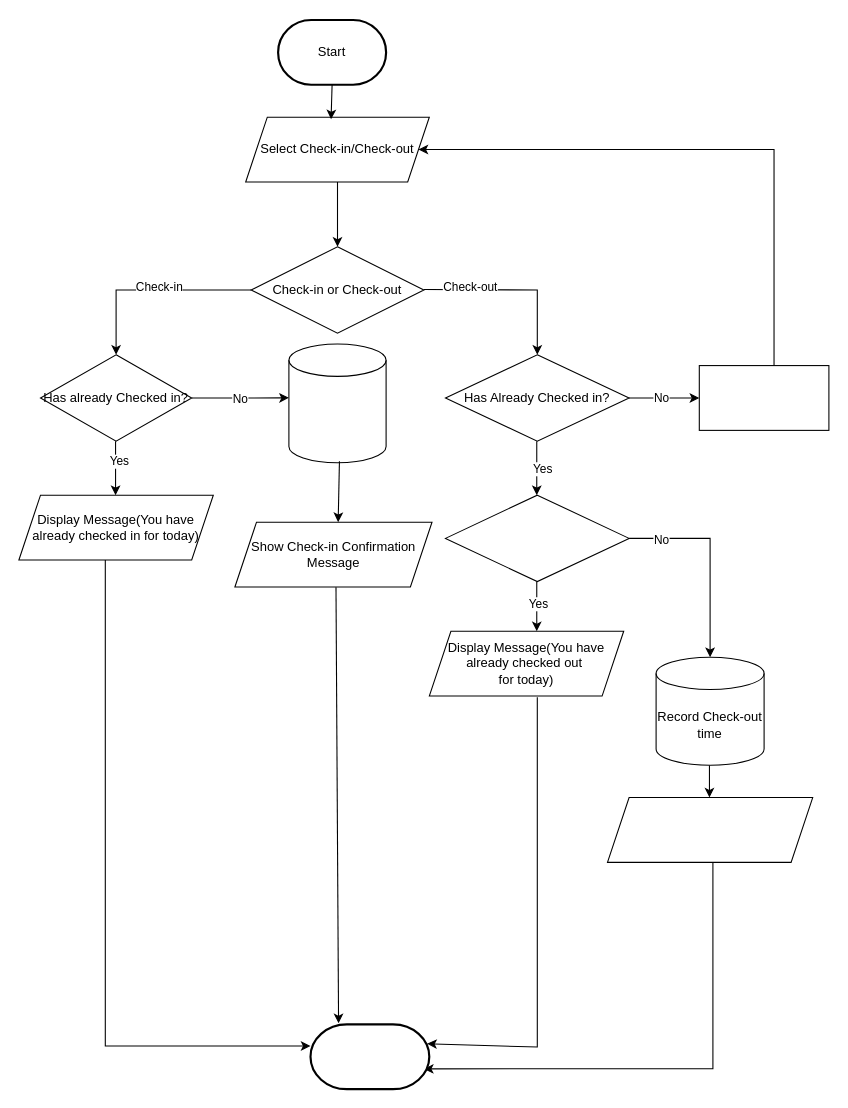
The diagram is 848 pixels wide and 1108 high, and some of its shapes have lost their labels. Each missing label, with the centre of its shape:
"Display Message:You must check in First" goes at pixel 763 397.
"End" goes at pixel 369 1056.
"Has Already Checked out?" goes at pixel 536 538.
"Record Check-in time" goes at pixel 337 403.
"Show Check-out Confirmation Message" goes at pixel 709 829.
